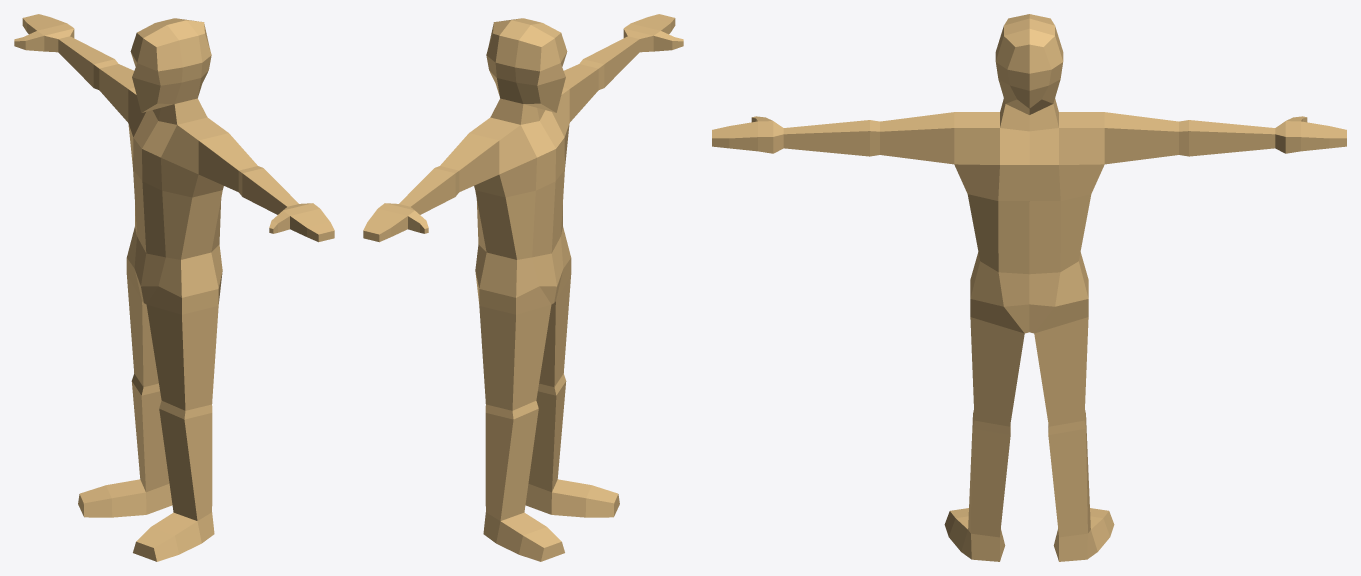
The model's file is main_chara.fbx.
The picture shows the model from 3 angles, left to right: view 1: azimuth 30°, elevation 25°; view 2: azimuth 150°, elevation 25°; view 3: azimuth 270°, elevation 25°; orthographic projection. The views are drawn at different scales.
Parts seen in each view (by area): view 1: Cube; view 2: Cube; view 3: Cube.
Part boxes in pixels (bbox=[...]): Cube: bbox=[14, 14, 334, 561]; Cube: bbox=[363, 14, 683, 561]; Cube: bbox=[712, 14, 1346, 561].
Bounding box in the file's own units: 352 × 1622 × 1754.
